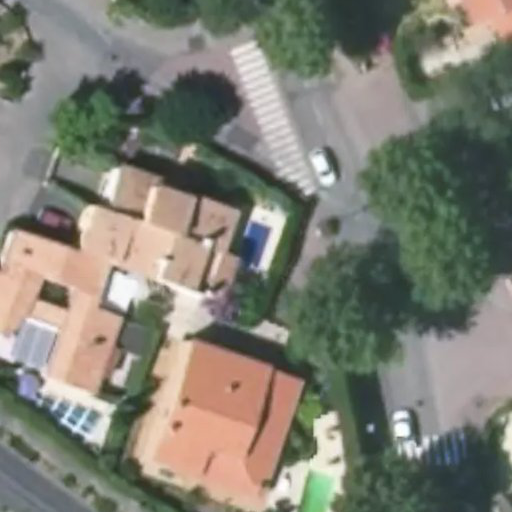pool: (291, 468, 339, 512), (233, 219, 275, 269)
